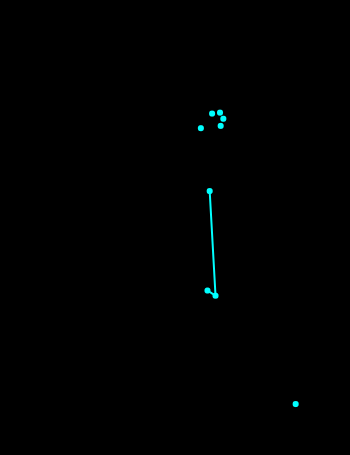warrior_1: (178, 93, 307, 418)
